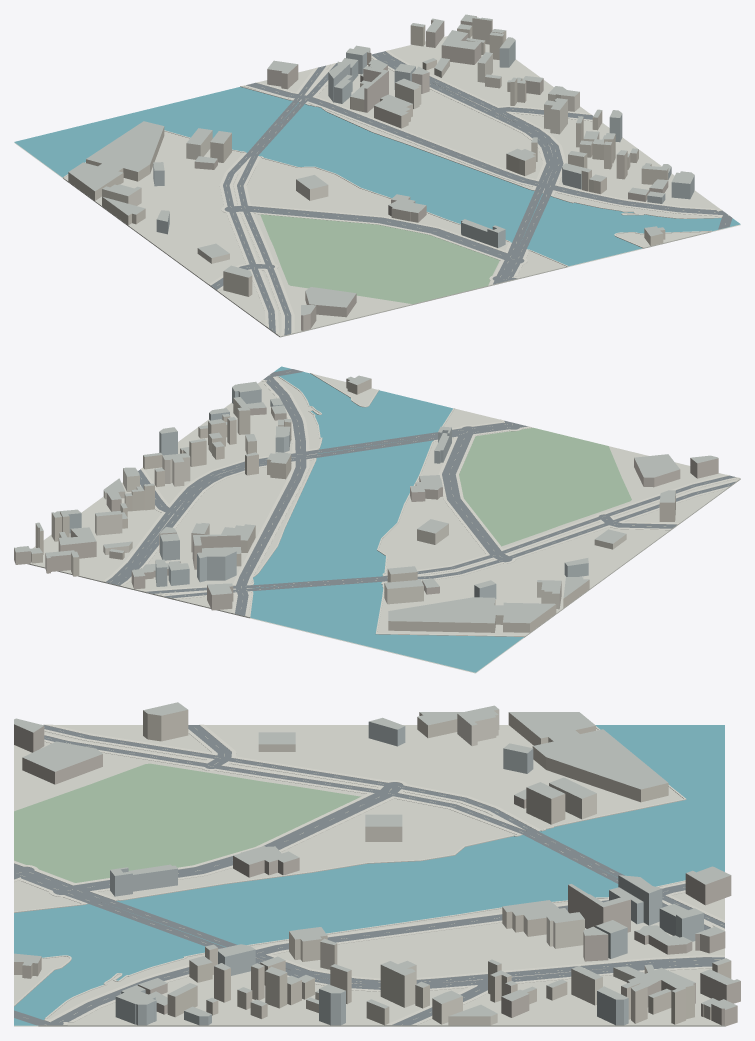
3 views of the same model, one above another, from view 1: azimuth 30°, elevation 25°; view 2: azimuth 150°, elevation 25°; view 3: azimuth 270°, elevation 25° (orthographic). The views are drawn at different scales.
Visible parts, largest first — view 1: city; view 2: city; view 3: city.
Boxes of the visible parts, <box> form: city: <box>14,14,740,337</box>; city: <box>14,366,740,673</box>; city: <box>14,702,740,1026</box>.
Bounding box in the file's own units: 502 × 26 × 511.
